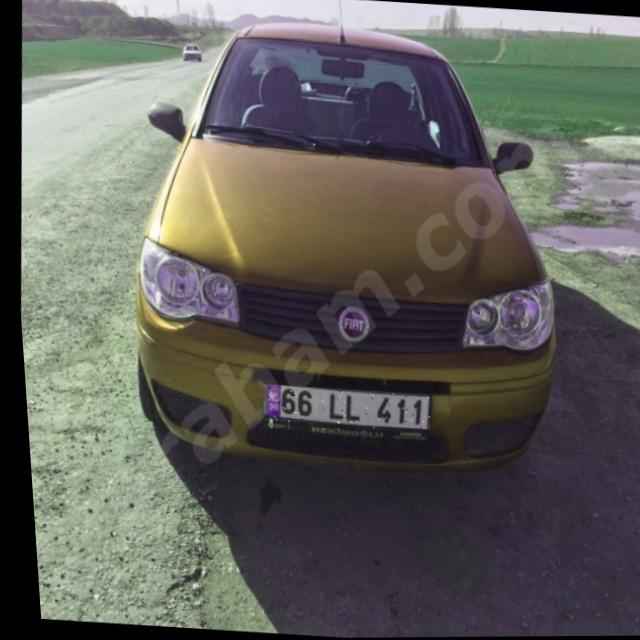license_plate: (255, 384, 425, 434)
